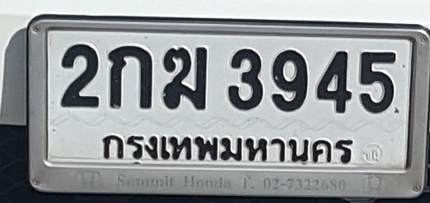num2: (57, 42, 101, 110)
txt01: (105, 42, 156, 112)
txt04: (159, 44, 209, 112)
